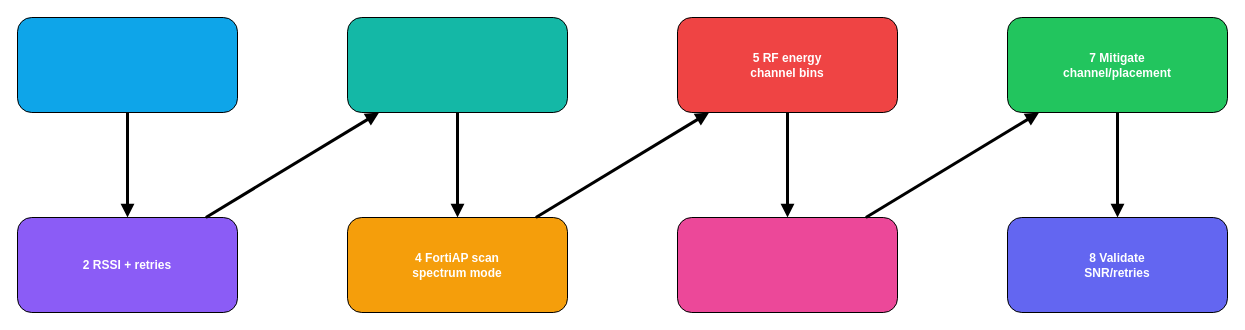
This 1245x330 diagram has some shape labels left out. The centre of each missing label's shape, as x and y in pixels:
"1 Client symptom voice/throughput" goes at point 127,64.
"3 SNR / noise" goes at point 457,64.
"6 Interferer non-802.11" goes at point 787,264.
